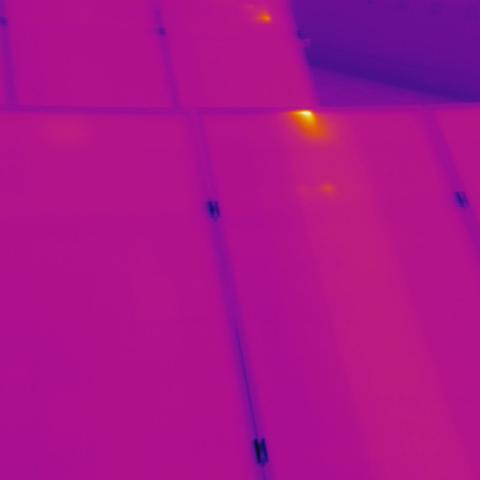fault: (282, 110, 333, 145)
